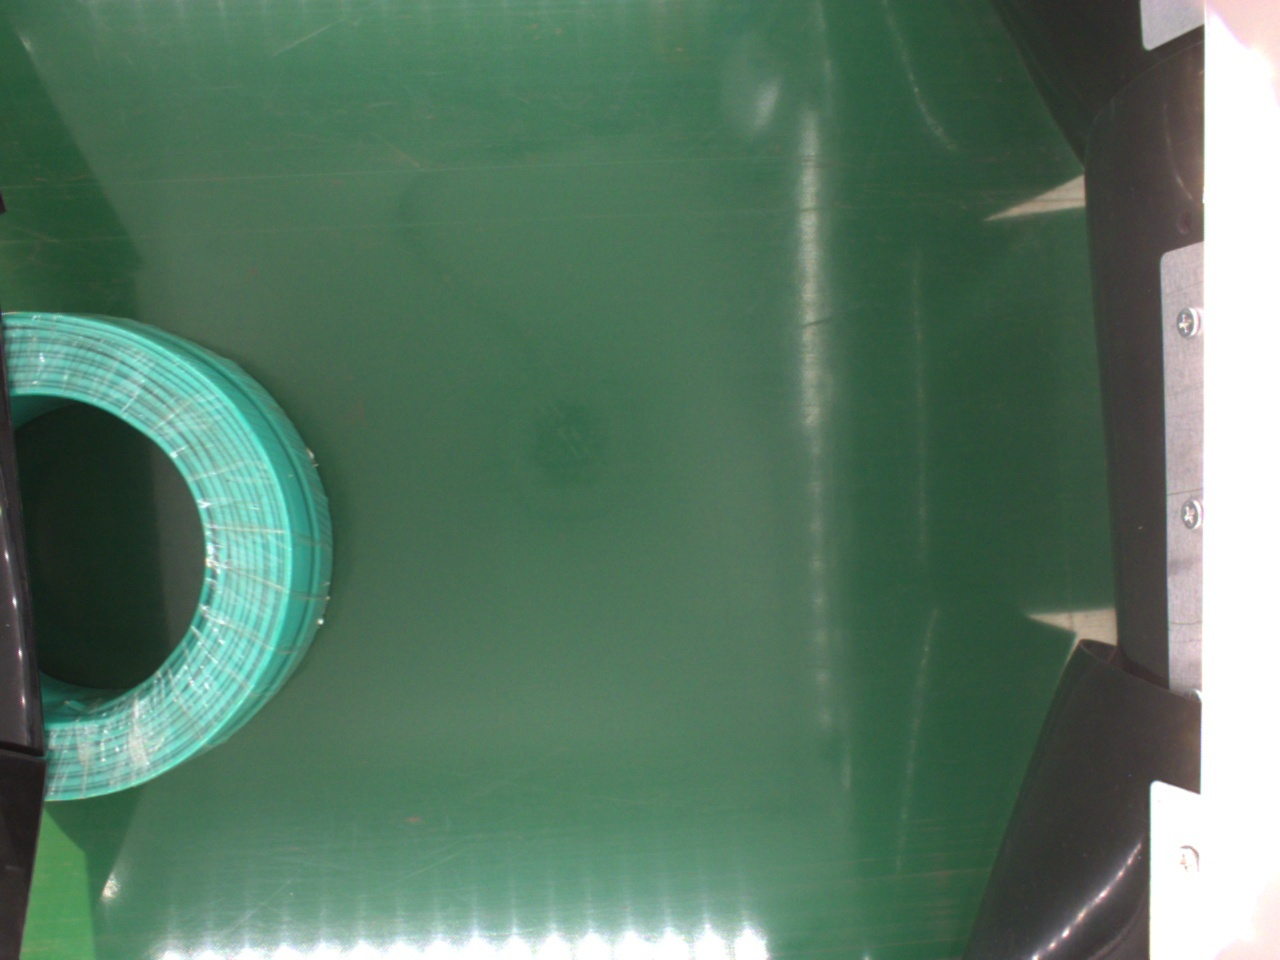green: (12, 307, 334, 815)
